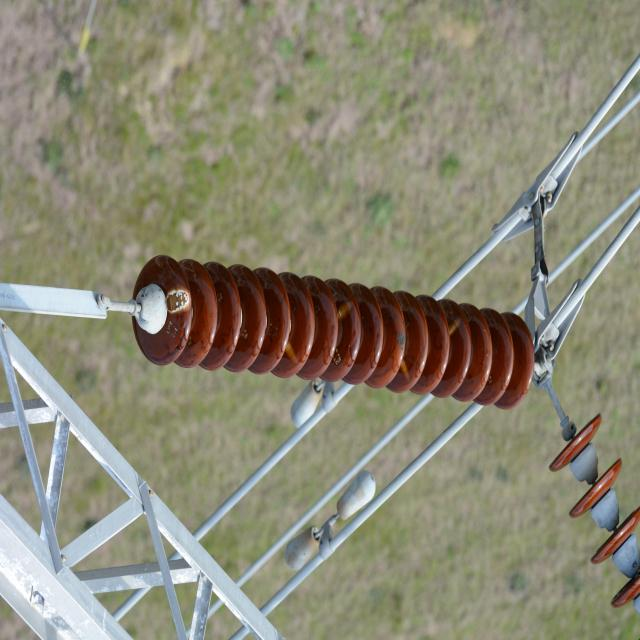insulator: (134, 258, 532, 410), (550, 415, 640, 610)
